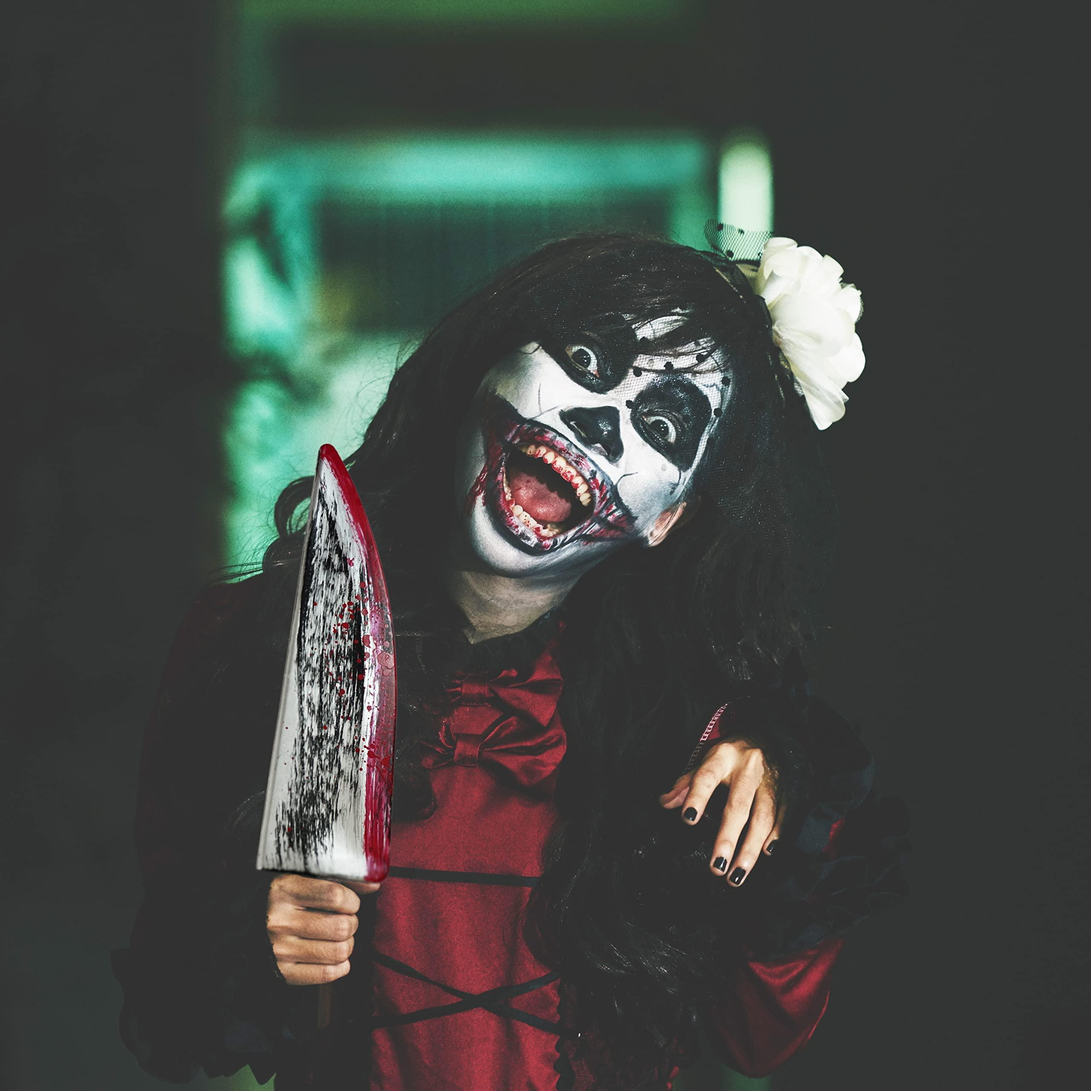Knife: (98, 233, 909, 1091), (260, 442, 399, 882), (260, 874, 365, 982)
